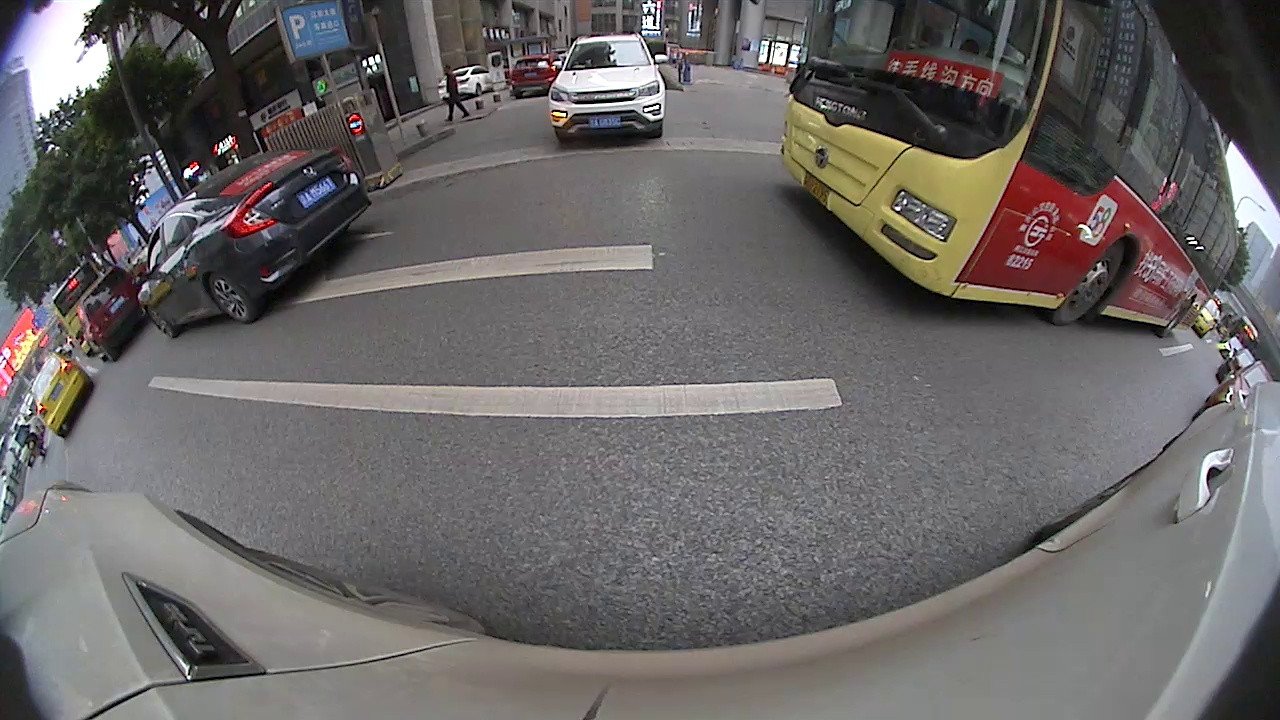car: (825, 66, 1137, 351), (65, 180, 234, 327), (226, 91, 374, 193), (486, 59, 666, 122), (1187, 380, 1262, 477), (1134, 292, 1199, 365)
front: (1083, 313, 1119, 351), (114, 284, 149, 323), (779, 120, 810, 156), (504, 97, 531, 123)
rear: (963, 269, 1030, 338), (288, 142, 317, 172), (613, 93, 643, 120)
